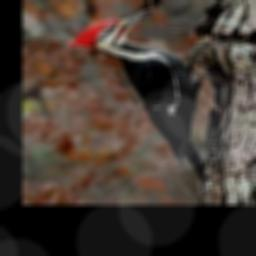Woodpecker: (68, 9, 207, 191)
